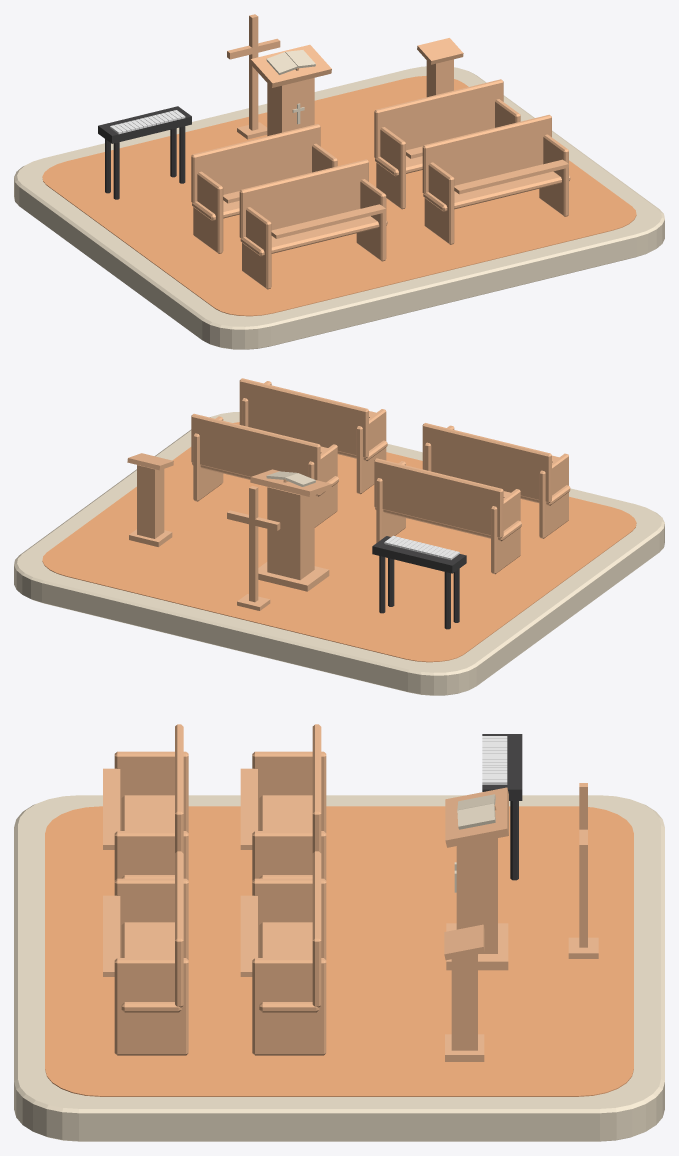
The model's file is room.fbx.
3 views of the same model, one above another, from view 1: azimuth 30°, elevation 25°; view 2: azimuth 150°, elevation 25°; view 3: azimuth 270°, elevation 25° (orthographic). The views are drawn at different scales.
Parts seen in each view (by area): view 1: COM-02 Floor Surface, COM-01 Rounded Base Direct, Back.003, Back.002, Back.001, Back, Body, End panel.006, End panel, End panel.004, Seat.002, Seat.003 (+12 smaller); view 2: COM-02 Floor Surface, COM-01 Rounded Base Direct, Back, Back.002, Back.003, Back.001, Body, Body.001, End panel, End panel.004, End panel.006, End panel.002 (+9 smaller); view 3: COM-02 Floor Surface, COM-01 Rounded Base Direct, End panel.007, End panel.003, Body, End panel, End panel.004, End panel.006, End panel.002, End panel.005, End panel.001, Seat.001 (+20 smaller).
Part boxes in pixels (x1,y1,x2,y2): COM-02 Floor Surface: (42,76,636,316); COM-01 Rounded Base Direct: (14,66,664,349); Back.003: (422,114,551,193); Back.002: (239,159,368,238); Back.001: (374,79,503,158); Back: (191,124,320,202); Body: (267,78,314,135); End panel.006: (424,162,454,244); End panel: (193,171,223,253); End panel.004: (242,207,271,289); Seat.002: (240,209,387,256); Seat.003: (423,164,570,211); COM-02 Floor Surface: (42,422,636,662); COM-01 Rounded Base Direct: (14,412,664,695); Back: (374,458,503,538); Back.002: (422,423,551,502); Back.003: (239,378,368,458); Back.001: (191,413,320,480); Body: (267,487,314,579); Body.001: (137,465,164,538); End panel: (491,489,520,574); End panel.004: (539,453,568,538); End panel.006: (356,409,386,494); End panel.002: (308,444,337,527); COM-02 Floor Surface: (45,806,633,1096); COM-01 Rounded Base Direct: (14,795,664,1141); End panel.007: (114,958,188,1055); End panel.003: (252,958,326,1055); Body: (456,838,497,953); End panel: (252,751,326,832); End panel.004: (114,751,188,832); End panel.006: (114,878,188,959); End panel.002: (252,878,326,959); End panel.005: (114,831,188,880); End panel.001: (252,831,326,880); Seat.001: (259,922,319,1012).
Size of the model in its own units: 600 by 176 by 520.
